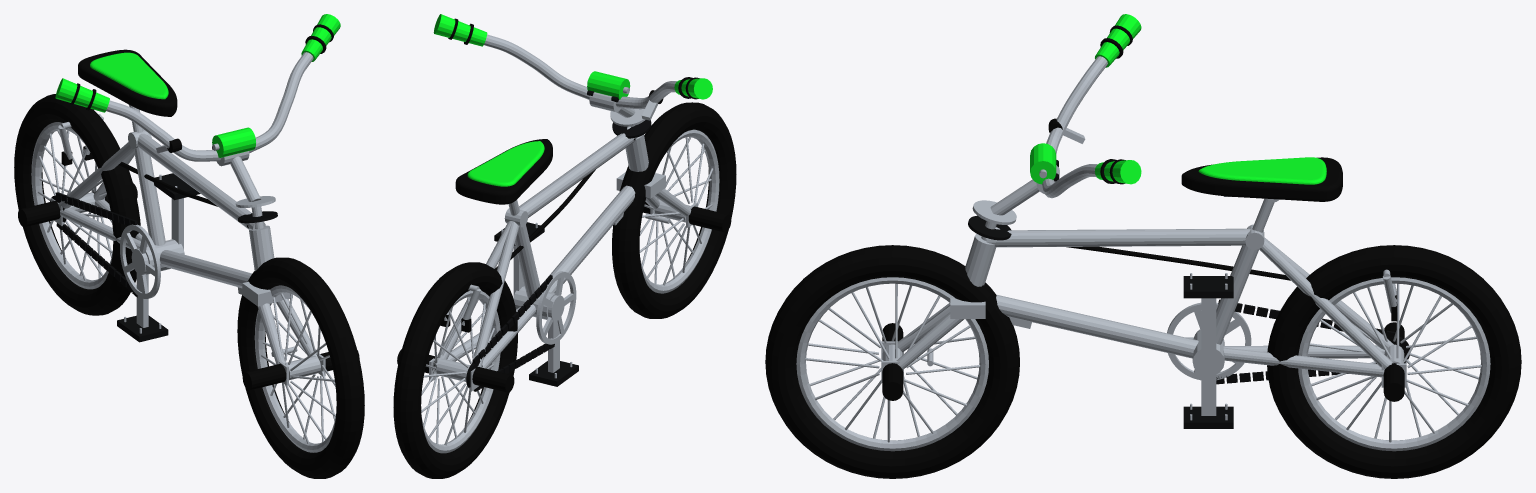
File: FreestyleBmx90s.obj
The picture shows the model from 3 angles, left to right: view 1: azimuth 30°, elevation 25°; view 2: azimuth 150°, elevation 25°; view 3: azimuth 270°, elevation 25°; orthographic projection. The views are drawn at different scales.
Parts seen in each view (by area): view 1: FreestyleBmx90s; view 2: FreestyleBmx90s; view 3: FreestyleBmx90s.
Boxes of the visible parts, bbox=[...] form: FreestyleBmx90s: bbox=[14, 14, 364, 478]; FreestyleBmx90s: bbox=[393, 14, 736, 478]; FreestyleBmx90s: bbox=[765, 14, 1521, 478].
Bounding box in the file's own units: 0.7323 × 0.8582 × 1.51.
